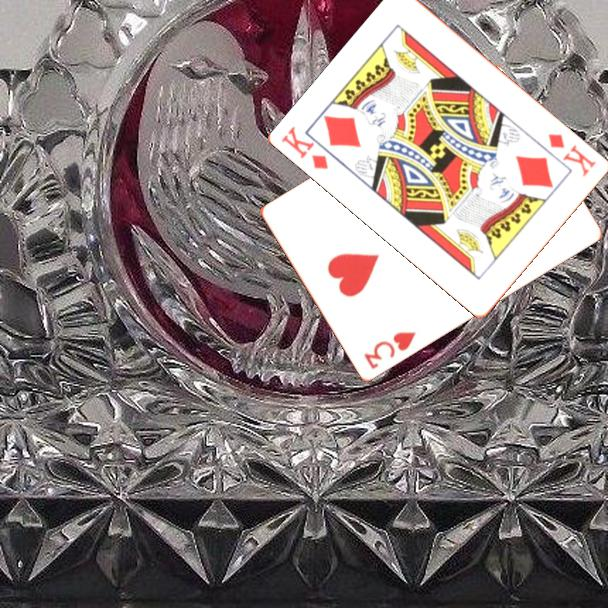d13: (545, 130, 600, 180), (278, 123, 332, 172)
h03: (360, 328, 418, 372)
